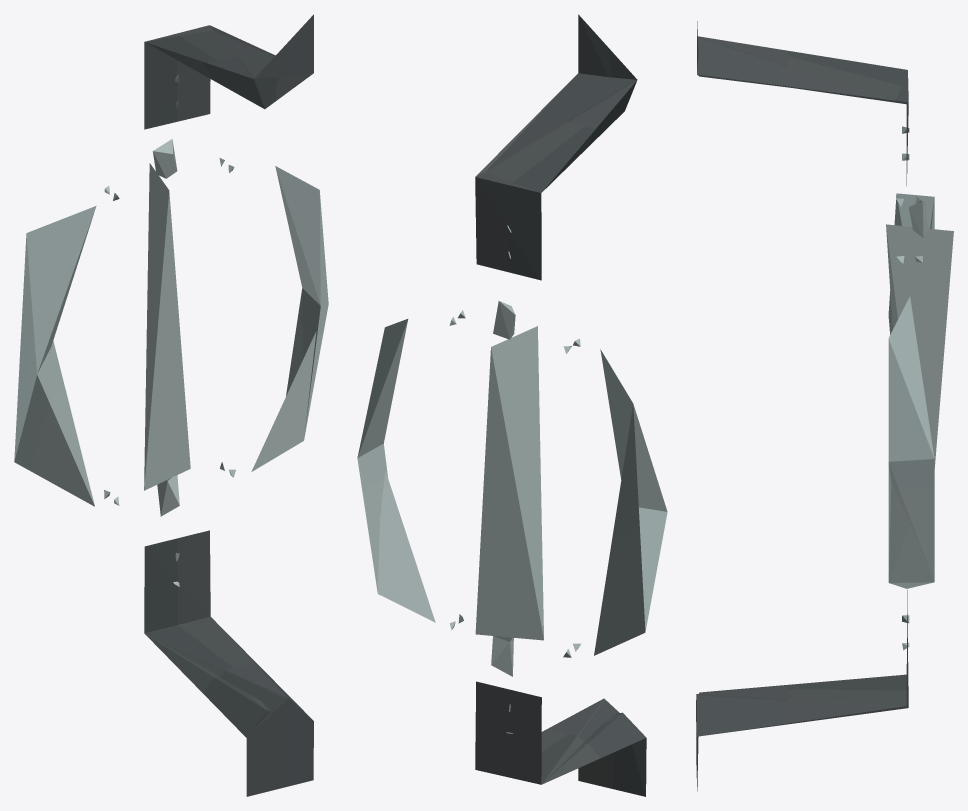
File: pj-052-geode.glb
3 renders of one model, left to right at view 1: azimuth 30°, elevation 25°; view 2: azimuth 150°, elevation 25°; view 3: azimuth 270°, elevation 25°, orthographic. The views are drawn at different scales.
Visible parts, largest first — view 1: Node; view 2: Node; view 3: Node.
Part boxes in pixels (left/top/right/bottom): Node: left=14, top=14, right=328, bottom=796; Node: left=357, top=14, right=667, bottom=796; Node: left=696, top=21, right=953, bottom=791.
Size of the model in its own units: 0.6065 by 1.52 by 0.4541.
Materials: 1 (1 with a texture image).
